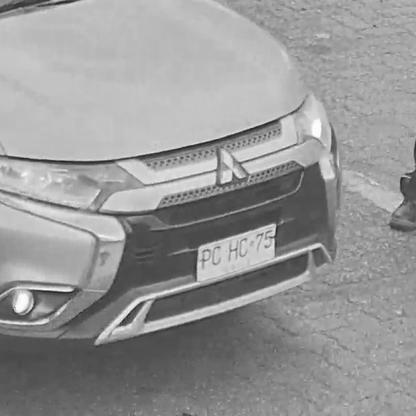Patente: (195, 221, 281, 283)
